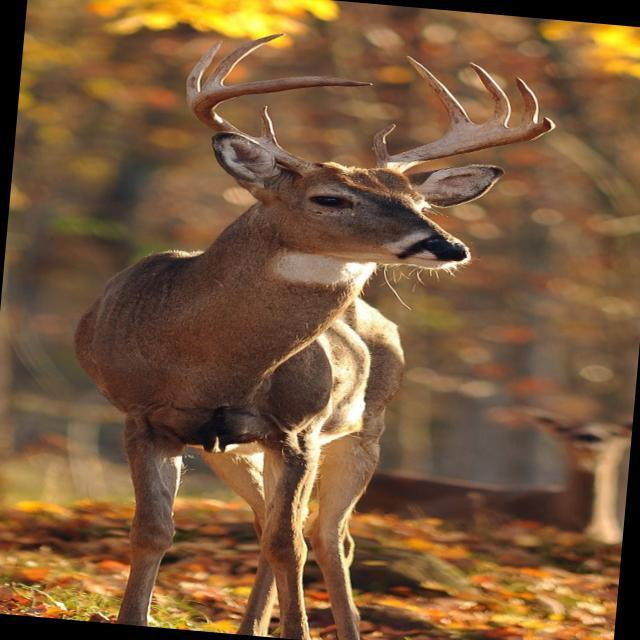L-F: (374, 117, 555, 173)
L-G1: (370, 123, 397, 160)
L-G2: (405, 55, 479, 131)
L-G3: (467, 61, 512, 127)
L-G4: (515, 76, 539, 127)
R-F: (188, 76, 372, 176)
R-G1: (255, 105, 283, 149)
R-G2: (199, 33, 287, 91)
R-G3: (185, 39, 223, 106)
